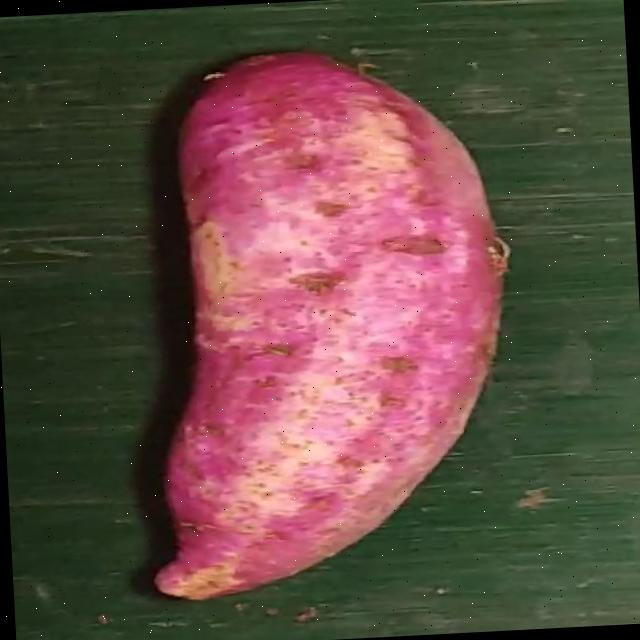Sweet Potato: (152, 50, 510, 601)
